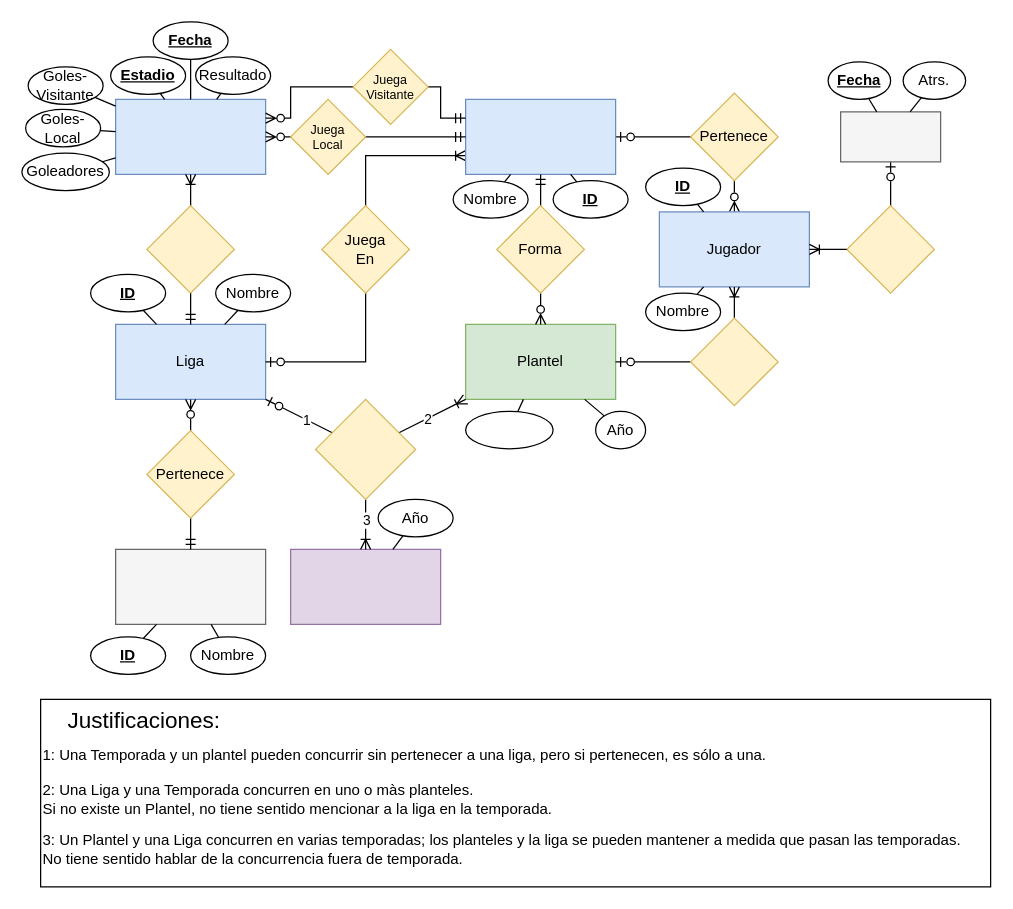
Image size: 1013x909. Some labels were removed from this diagram. The centre of each missing label's shape, as x and y in pixels:
"Atributos Jugador" goes at (890,136).
"Concurren" goes at (365,448).
"Conforma" goes at (733,361).
"Equipo" goes at (540,136).
"Jugadores" goes at (508,429).
"Partido" goes at (190,136).
"País" goes at (190,586).
"Se Juega En" goes at (190,248).
"Temporada" goes at (365,586).
"Tiene Varios" goes at (890,248).
